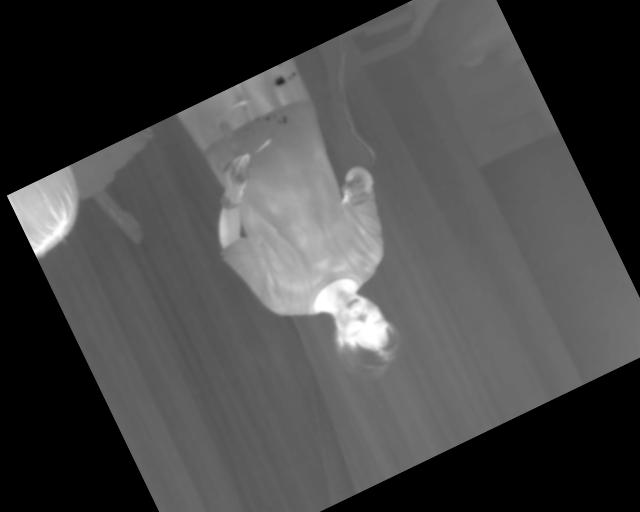face: (315, 277, 411, 386)
